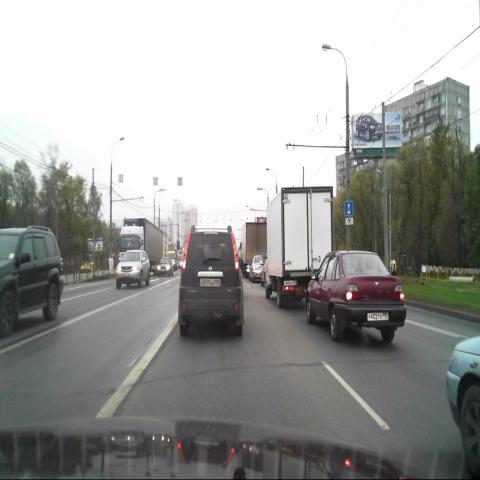5_14: (345, 201, 353, 215)
